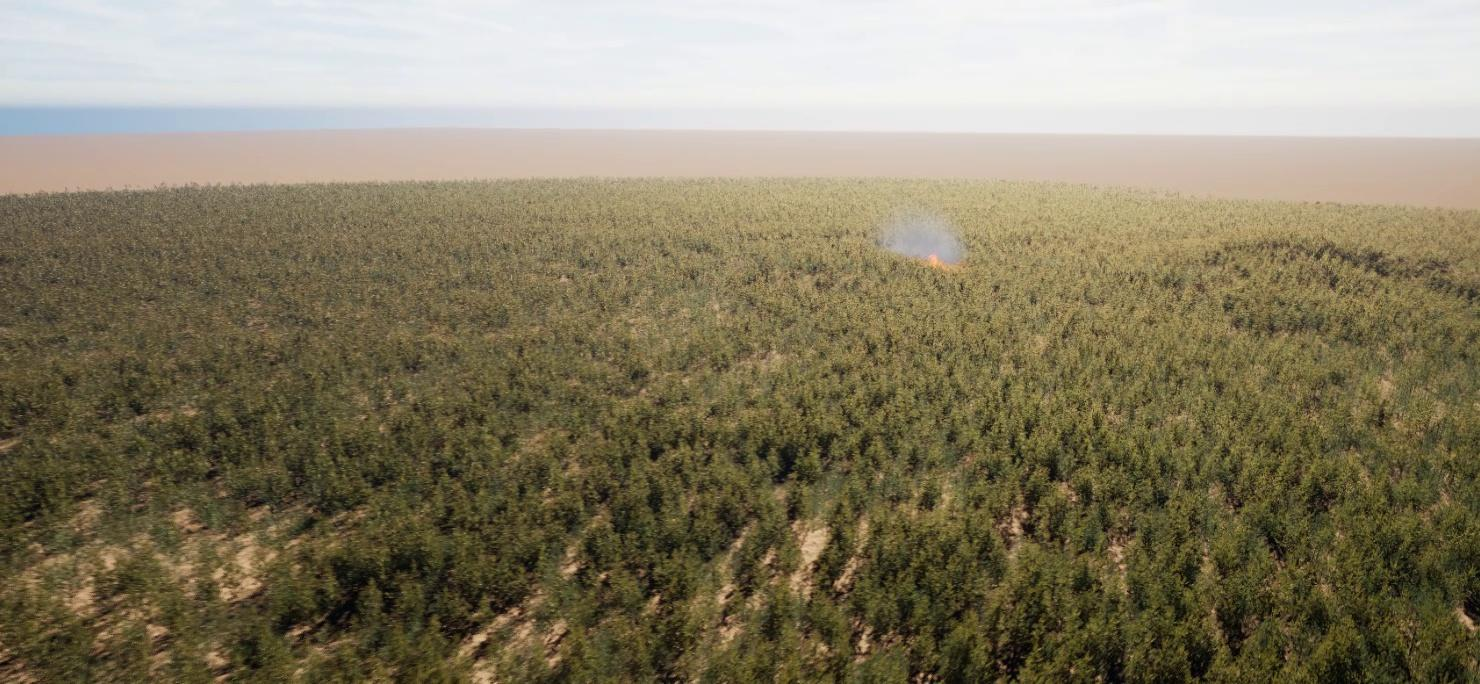fire: (924, 247, 956, 268)
smoke: (883, 206, 968, 268)
